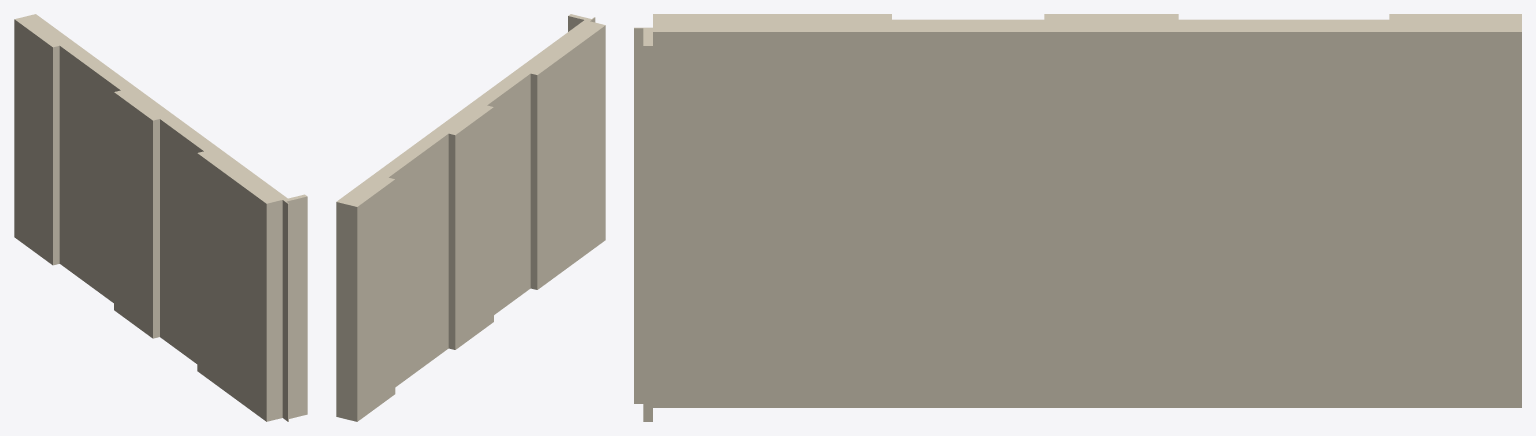
The picture shows the model from 3 angles, left to right: view 1: azimuth 30°, elevation 25°; view 2: azimuth 150°, elevation 25°; view 3: azimuth 270°, elevation 25°; orthographic projection. The views are drawn at different scales.
Parts seen in each view (by area): view 1: A-GF-WALL-026; view 2: A-GF-WALL-026; view 3: A-GF-WALL-026.
Part boxes in pixels (x1=…): A-GF-WALL-026: x1=14, y1=14, x2=307, y2=421; A-GF-WALL-026: x1=336, y1=14, x2=605, y2=421; A-GF-WALL-026: x1=634, y1=14, x2=1521, y2=421.
Size of the model in its own units: 0.499 by 2.72 by 5.82.
